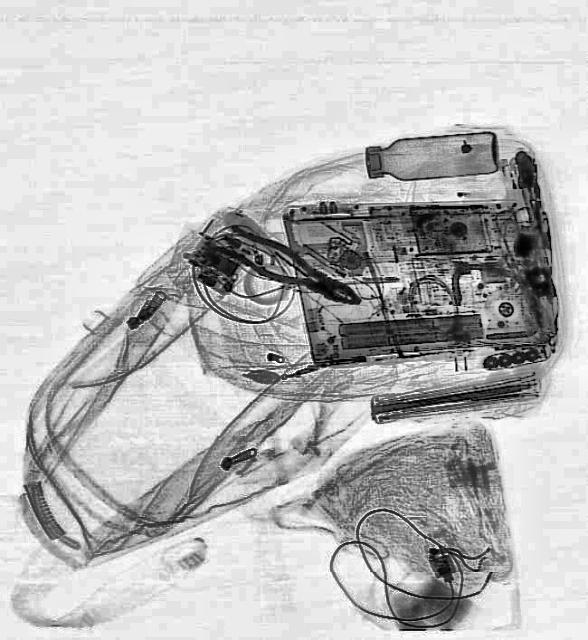Pliers: (208, 215, 368, 318)
